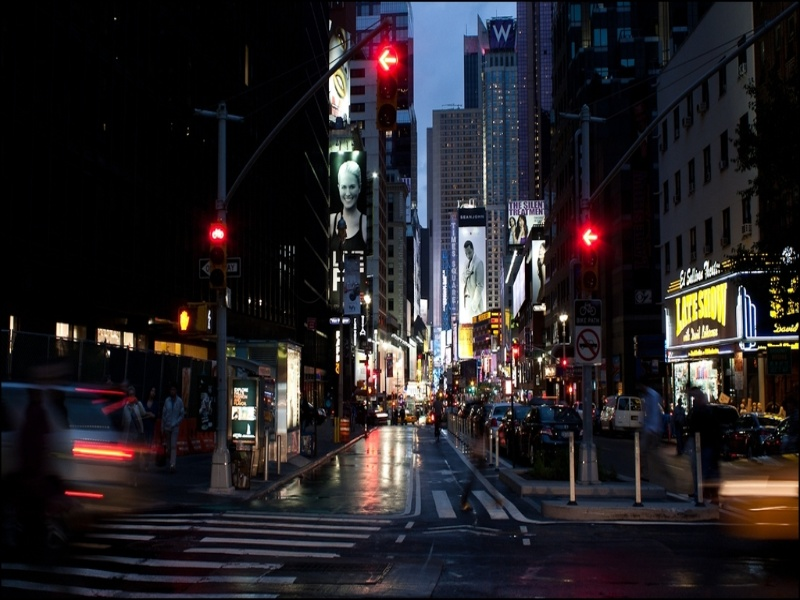no_parking: (575, 324, 604, 363)
red_light: (373, 44, 404, 79), (578, 225, 605, 253), (207, 221, 229, 247)
